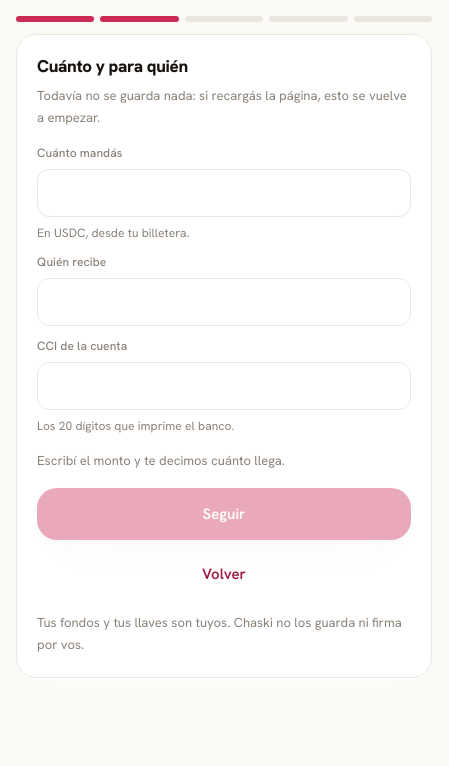
WKH-374/W1.2 · el recorrido nuevo, montado y recorrido › T-374-W1-18: por debajo del mínimo la pantalla DICE por qué no cotiza, y no repite «escribí el monto»
Type "4" into the field labelled "Cuánto mandás" at (224, 194), box [37, 170, 411, 218]
Wait 2000 ms
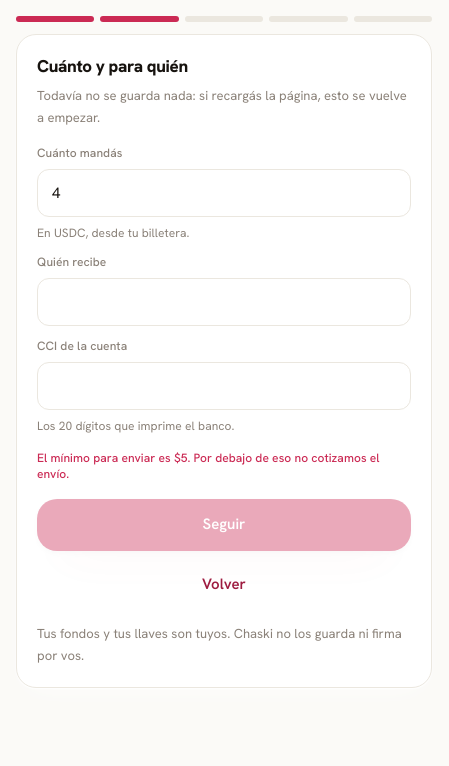
Expected: the message shows "El mínimo para enviar es", [37, 450, 181, 466]
Expected: the message shows "5", [181, 450, 188, 466]
Expected: the text "Escribí el monto y te decimos cuánto llega." is gone
Replace the text in the field labelled "Cuánto mandás" with "10" at (224, 194), box [37, 170, 411, 218]
Wait 2000 ms
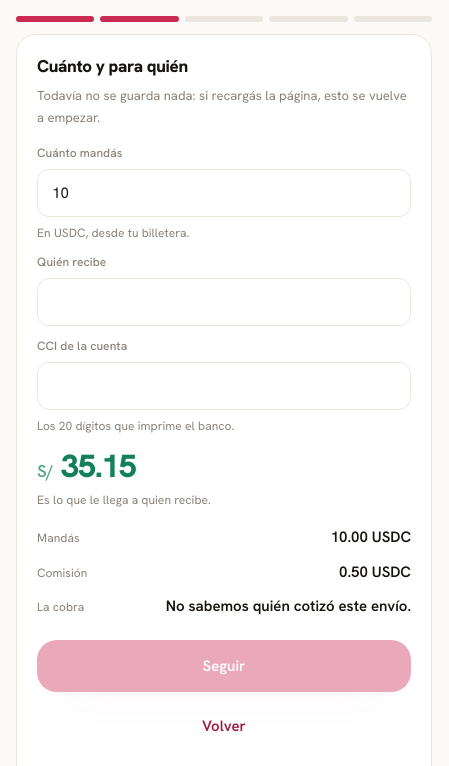
Expected: the message "El mínimo para enviar es $5. Por debajo de eso no cotizamos el envío." is gone
